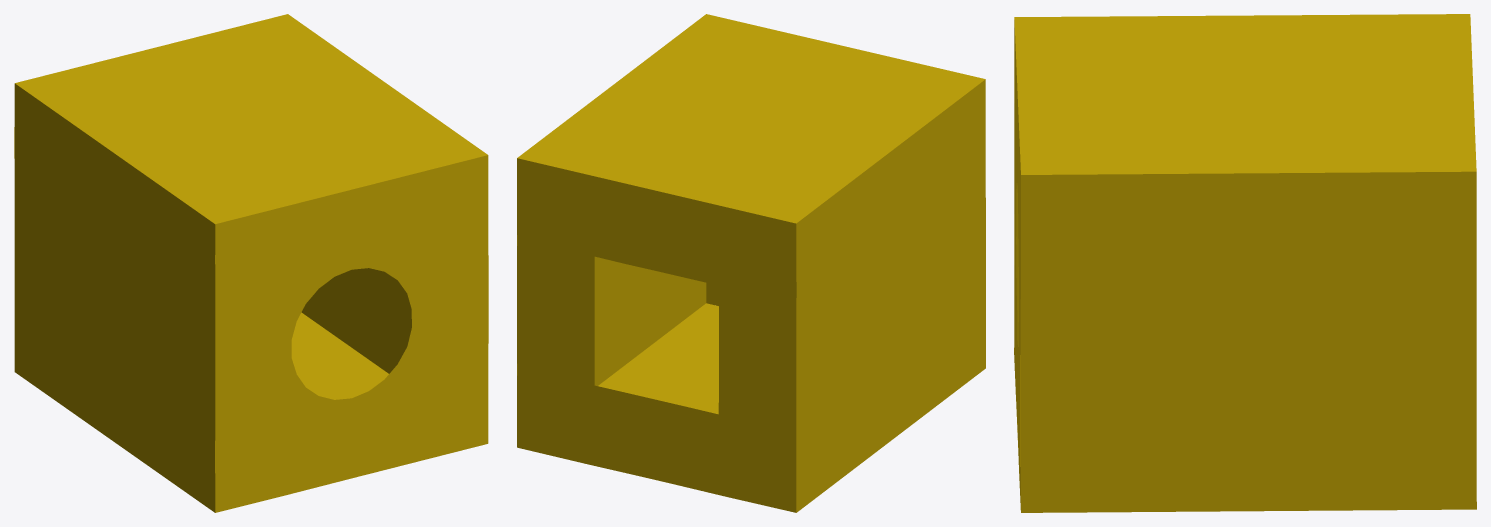
Rendered from original_10.obj.
3 renders of one model, left to right at view 1: azimuth 30°, elevation 25°; view 2: azimuth 150°, elevation 25°; view 3: azimuth 270°, elevation 25°, orthographic. The views are drawn at different scales.
Parts seen in each view (by area): view 1: mesh8/mesh8-geometry#mesh8-geometry; view 2: mesh8/mesh8-geometry#mesh8-geometry; view 3: mesh8/mesh8-geometry#mesh8-geometry.
Part boxes in pixels (left/top/right/bottom): mesh8/mesh8-geometry#mesh8-geometry: left=14, top=14, right=488, bottom=512; mesh8/mesh8-geometry#mesh8-geometry: left=517, top=14, right=985, bottom=512; mesh8/mesh8-geometry#mesh8-geometry: left=1014, top=14, right=1476, bottom=512.
Bounding box in the file's own units: 0.208 × 0.2037 × 0.2524.
